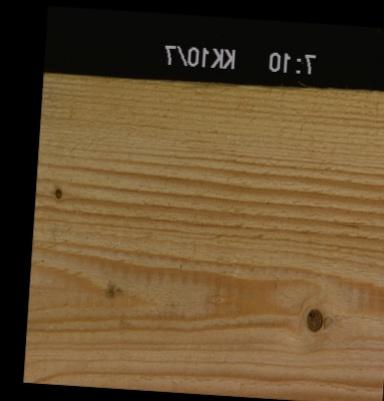dry_knot: (304, 306, 324, 331), (53, 185, 62, 199)
